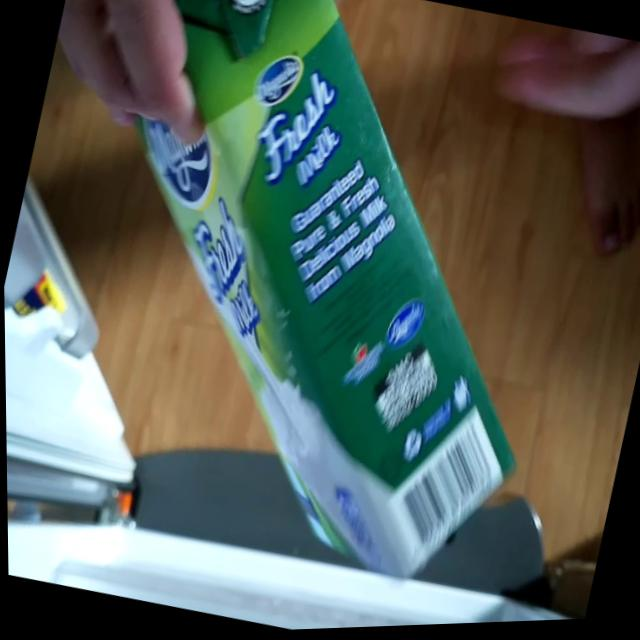milk: (18, 0, 594, 619)
